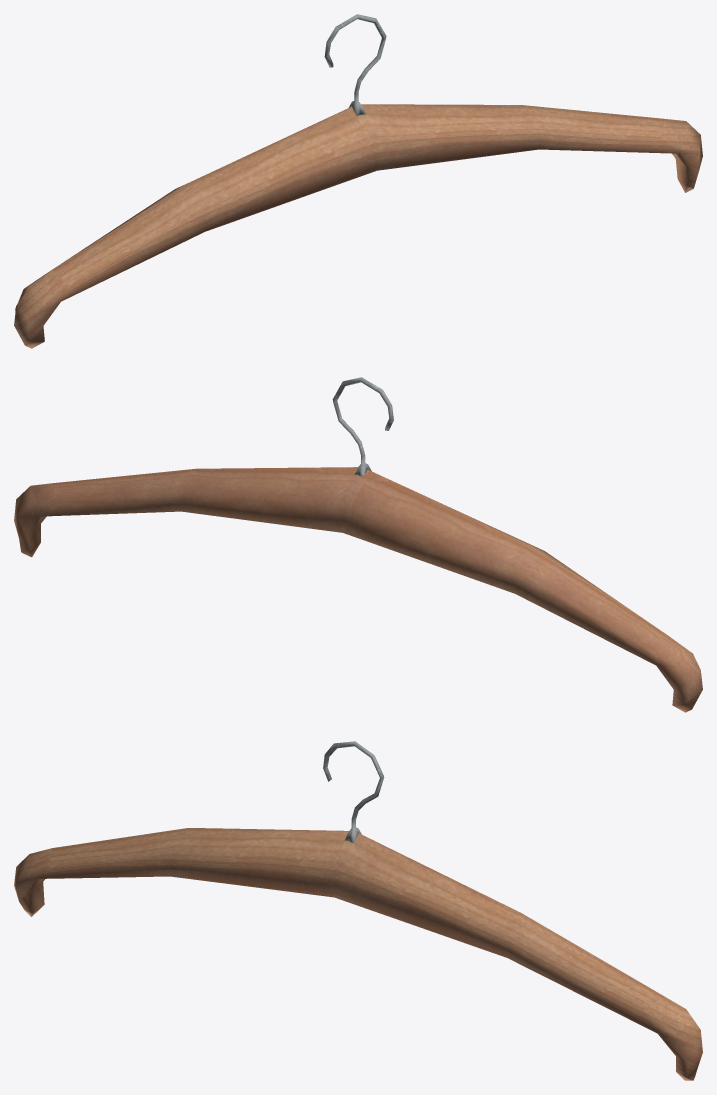
File: M_Home_Garden_Cloth_Hanger01.fbx
The picture shows the model from 3 angles, top to bottom: view 1: azimuth 30°, elevation 25°; view 2: azimuth 150°, elevation 25°; view 3: azimuth 330°, elevation 25°; orthographic projection.
Parts seen in each view (by area): view 1: M_Home_Garden_Cloth_Hanger01; view 2: M_Home_Garden_Cloth_Hanger01; view 3: M_Home_Garden_Cloth_Hanger01.
Part boxes in pixels (bbox=[...]): M_Home_Garden_Cloth_Hanger01: bbox=[14, 14, 702, 348]; M_Home_Garden_Cloth_Hanger01: bbox=[14, 377, 702, 712]; M_Home_Garden_Cloth_Hanger01: bbox=[14, 741, 702, 1080].
Size of the model in its own units: 57.03 by 20.56 by 5.7.
